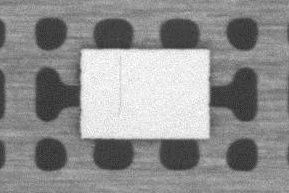DIE_CRACK: (115, 54, 124, 114)
